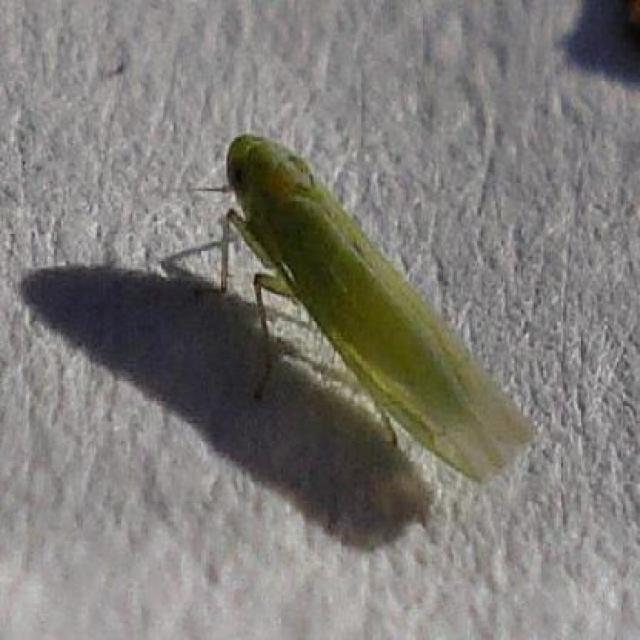green-leafhopper: (223, 124, 522, 502)
